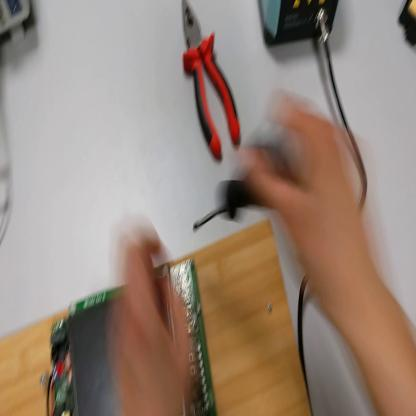hand: (241, 92, 369, 309), (104, 229, 193, 415)
low voltage board: (50, 252, 221, 416)
oscilloscope: (2, 2, 32, 46)
pliers: (184, 2, 242, 163)
screwdriver-: (194, 123, 304, 238)
welder base: (399, 2, 416, 51)
welder station: (259, 1, 340, 50)
working area: (2, 221, 315, 416)
